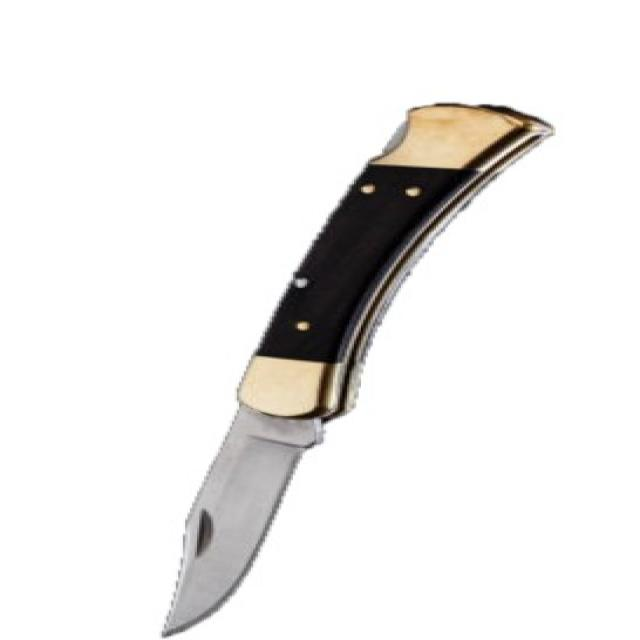knife: (149, 85, 564, 640)
